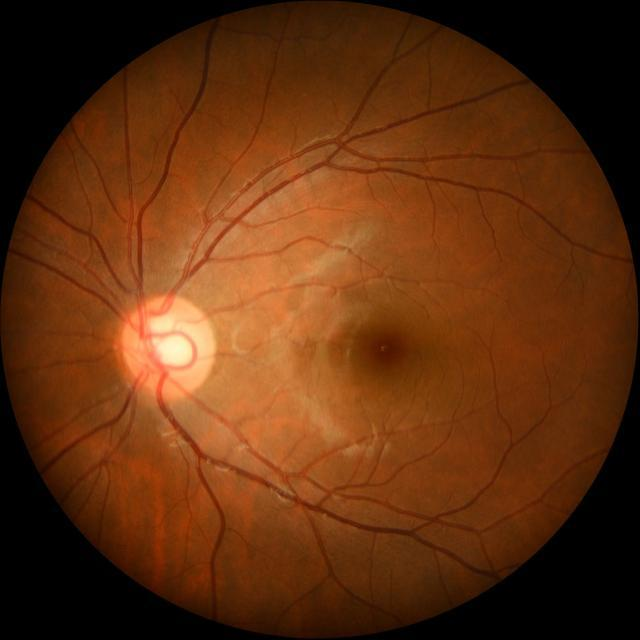OC: (143, 314, 197, 373)
OD: (121, 294, 214, 398)
